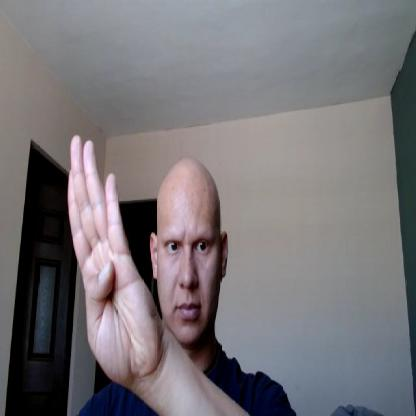B: (67, 134, 161, 383)
